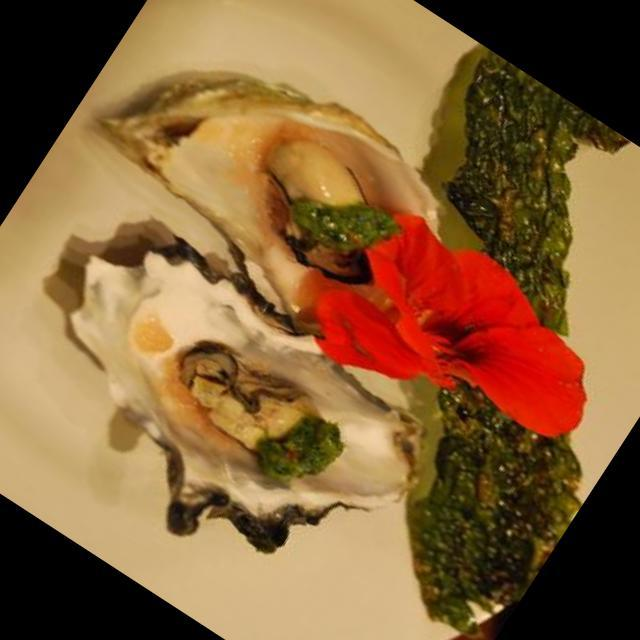Oyster-Open: (0, 200, 463, 640), (71, 0, 505, 379)
